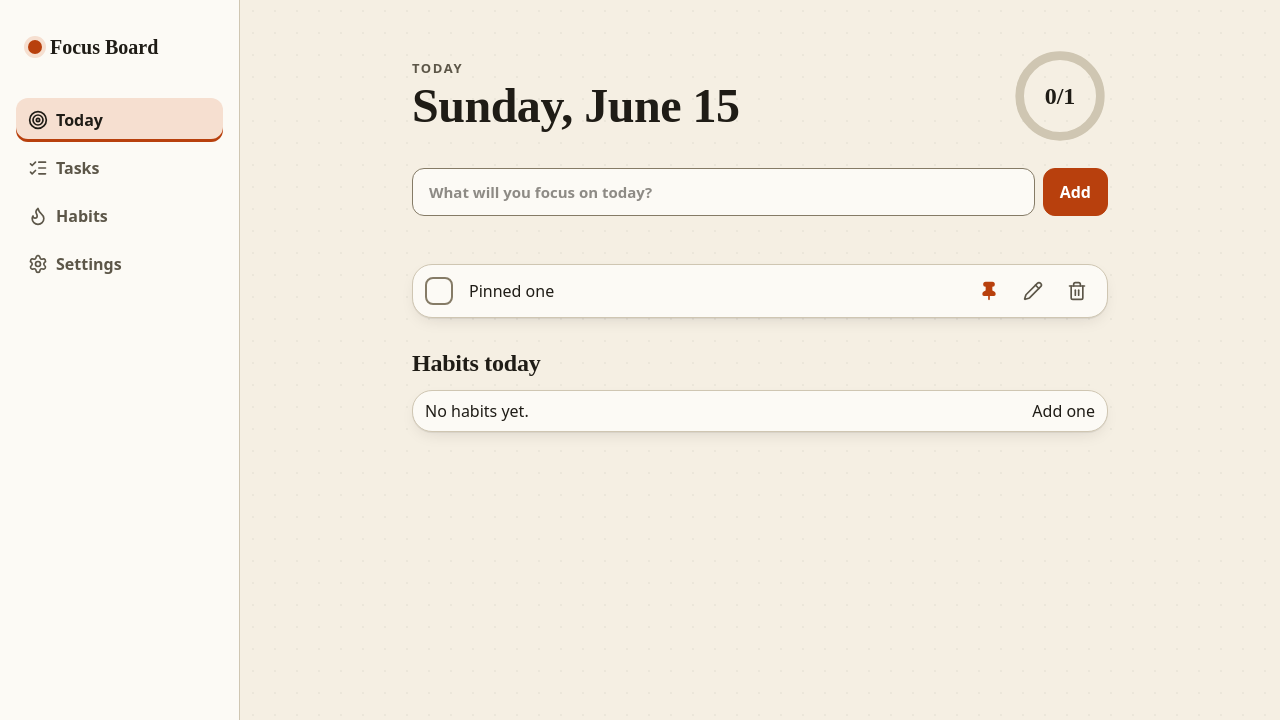
Scenario: AC5: Today list › shows pinned tasks and done/total progress, and an empty state when none are pinned
Expected: the list named "Today's tasks" reads "Pinned one", [469,280,554,302]
Expected: the list named "Today's tasks" does not show "Other", [412,264,1108,318]
Click the button named "Pin “Pinned one” to Today".
click(989, 291)  # box [967,269,1011,313]
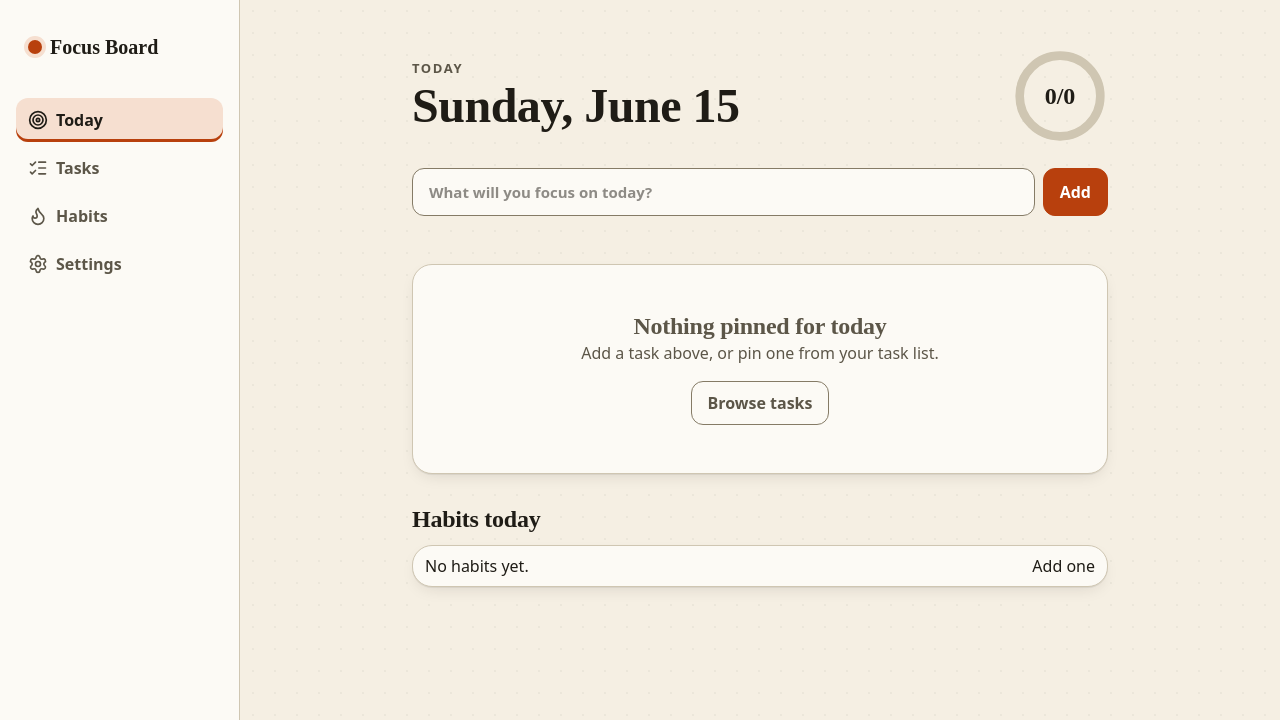
Now the heading "Nothing pinned for today" is shown, box [633,313,887,339]
Now the picture named "0 of 0 done" is shown, box [1012,48,1108,144]
